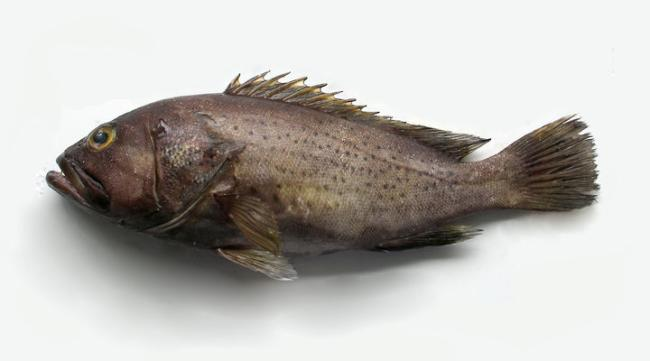fish: (45, 70, 600, 282)
